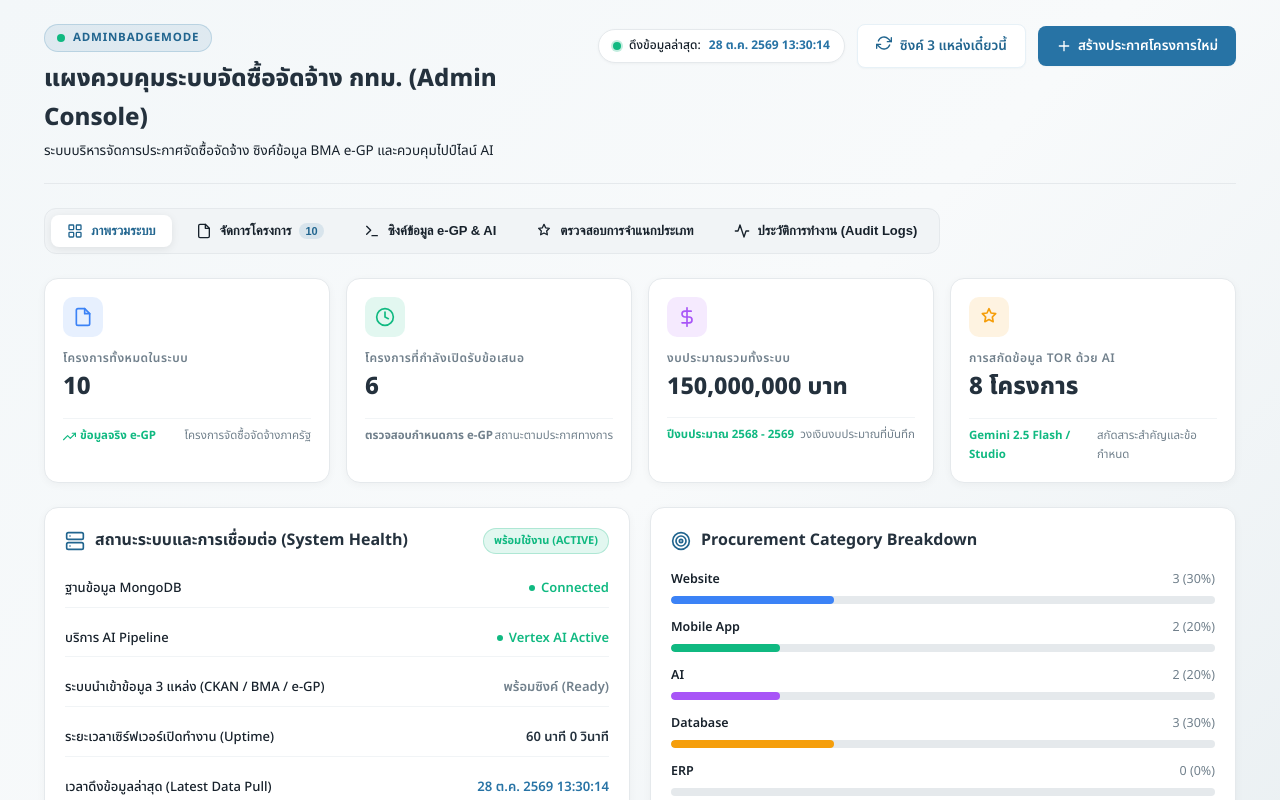
AdminPage component › opens ProjectFormModal when clicking New Project button
The width and height of the screenshot is (1280, 800).
Click the button "สร้างประกาศโครงการใหม่" at (1137,46), box x1=1038 y1=26 x2=1236 y2=66
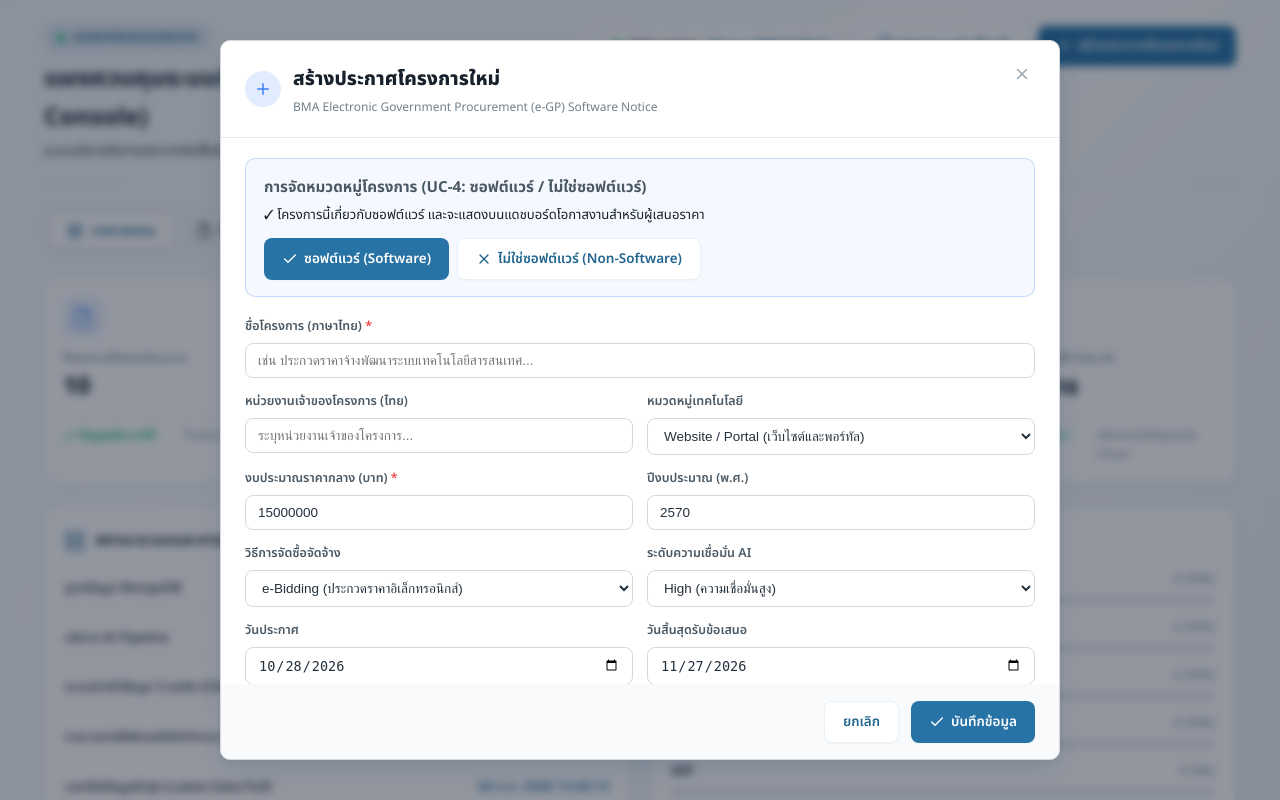
Check: the dialog is shown
Check: the text "BMA Electronic Government Procurement (e-GP) Software Notice" is shown, box x1=293 y1=98 x2=657 y2=117
